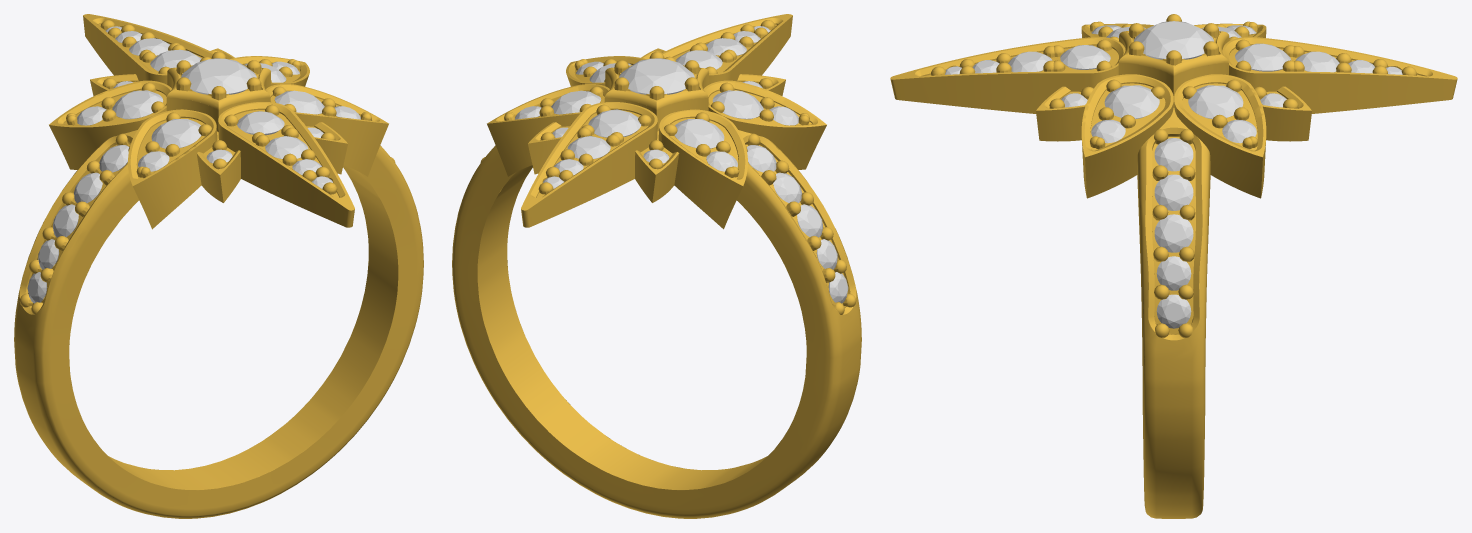
Rendered from Ring_B_Optimazed.fbx.
3 views of the same model, side by side, from view 1: azimuth 30°, elevation 25°; view 2: azimuth 150°, elevation 25°; view 3: azimuth 270°, elevation 25° (orthographic). The views are drawn at different scales.
Visible parts, largest first — view 1: Ring_B_01_Object, Ring_B_Diamod_Object; view 2: Ring_B_01_Object, Ring_B_Diamod_Object; view 3: Ring_B_01_Object, Ring_B_Diamod_Object.
Part boxes in pixels (x1,y1,x2,y2): Ring_B_01_Object: (14, 14, 423, 518); Ring_B_Diamod_Object: (27, 26, 360, 303); Ring_B_01_Object: (452, 14, 861, 518); Ring_B_Diamod_Object: (515, 26, 848, 303); Ring_B_01_Object: (890, 14, 1457, 518); Ring_B_Diamod_Object: (945, 21, 1402, 328).
Size of the model in its own units: 2.08 by 2.24 by 2.47.
